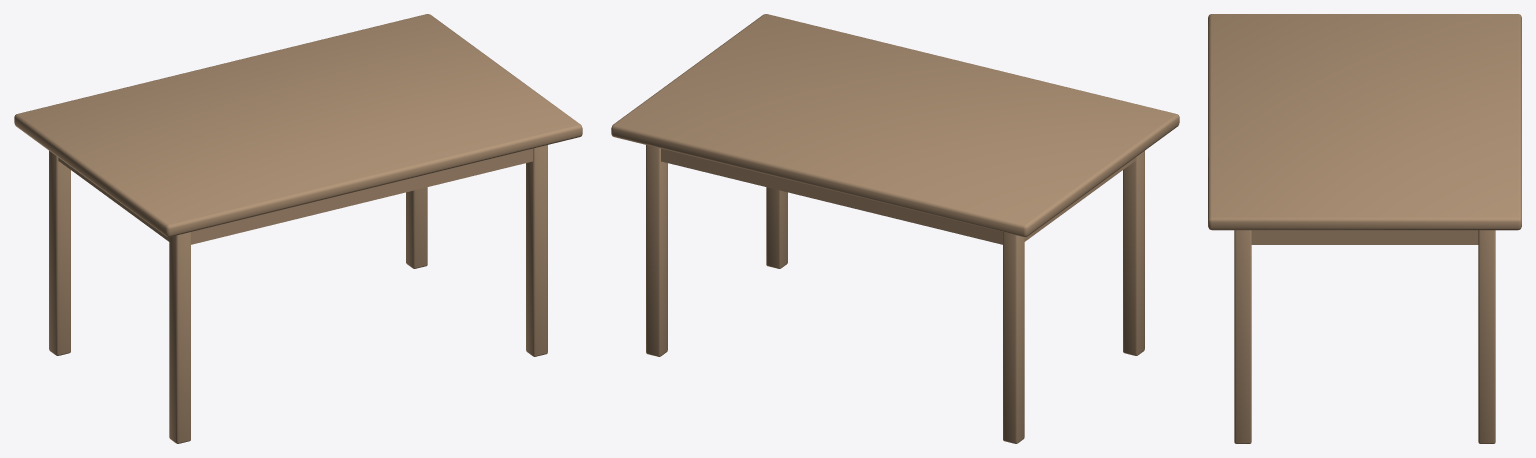
File: table.glb
3 views of the same model, side by side, from view 1: azimuth 30°, elevation 25°; view 2: azimuth 150°, elevation 25°; view 3: azimuth 270°, elevation 25° (orthographic).
Visible parts, largest first — view 1: Cube, Cube.001, Cube.002, Cube.004, Cube.003, Cube.005; view 2: Cube, Cube.001, Cube.003, Cube.005, Cube.002, Cube.004; view 3: Cube, Cube.004, Cube.005, Cube.001.
Boxes of the visible parts, x1,y1,x2,y2 form: Cube: (14,14,582,236); Cube.001: (58,148,532,244); Cube.002: (169,232,190,443); Cube.004: (526,145,547,356); Cube.003: (49,151,70,355); Cube.005: (406,187,427,268); Cube: (611,14,1179,236); Cube.001: (661,148,1135,244); Cube.003: (1003,232,1024,443); Cube.005: (646,145,667,356); Cube.002: (1123,151,1144,355); Cube.004: (766,187,787,268); Cube: (1208,14,1521,230); Cube.004: (1234,230,1251,443); Cube.005: (1478,230,1495,443); Cube.001: (1251,230,1478,244).
Size of the model in its own units: 1.4 by 0.75 by 0.9.
